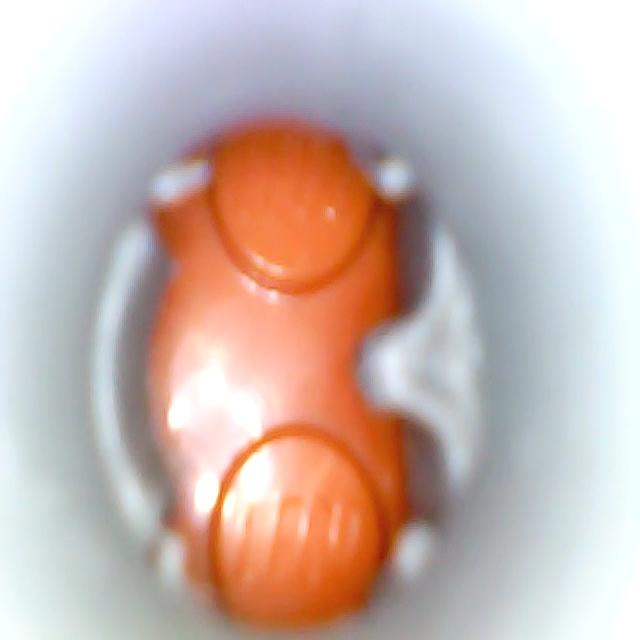studs: (209, 423, 386, 627), (205, 128, 385, 293)
